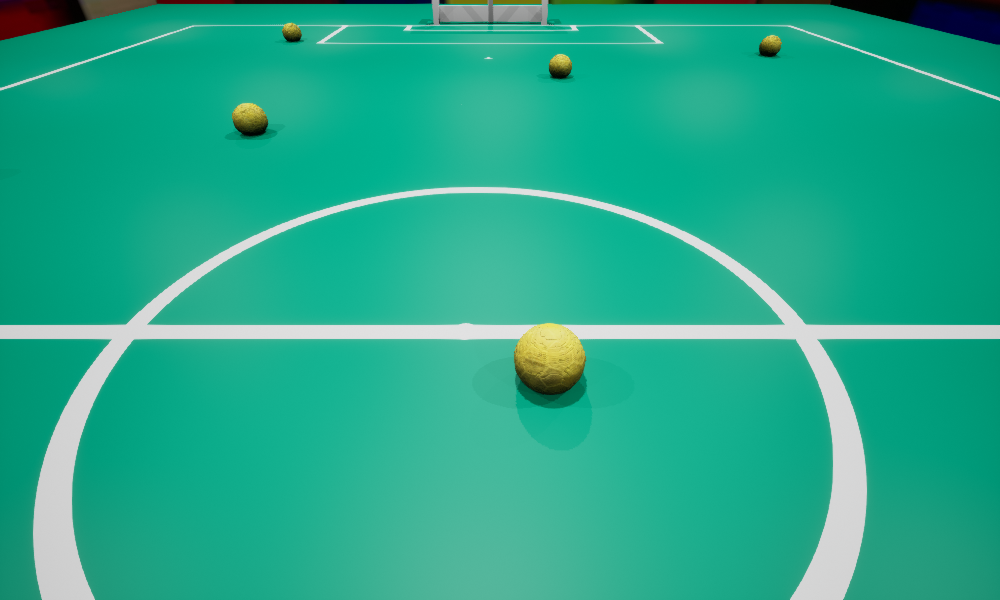b: (514, 323, 585, 394), (232, 103, 267, 135), (549, 54, 571, 77), (759, 35, 781, 55), (282, 23, 301, 41)
g: (432, 0, 547, 24)
